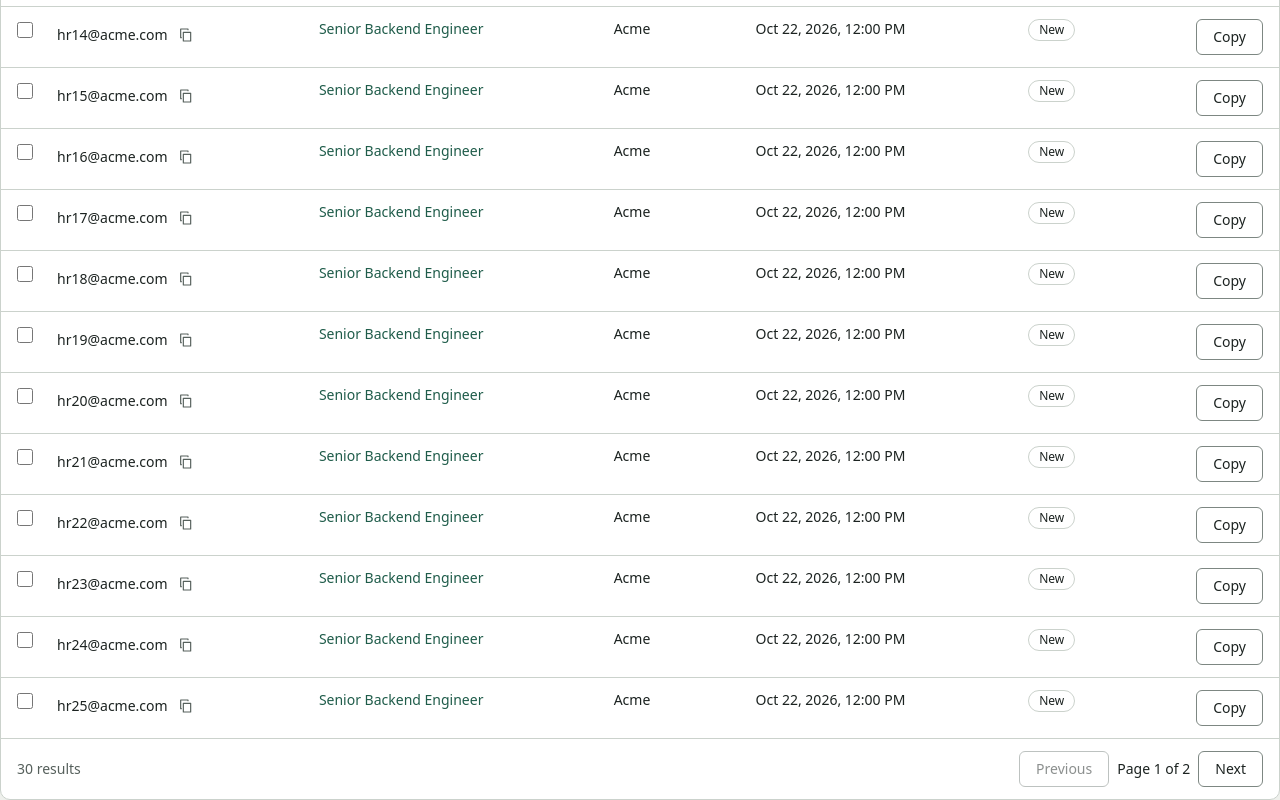
it: pagination moves pages
(page scrolled)
Expected: the text "Page 1 of 2" is shown, [1117,759,1190,779]
Expected: the button with aria-label "Previous page" is disabled, [1019,751,1109,787]
Click the button with aria-label "Next page" at (1231, 769), box [1198,751,1263,787]
(page scrolled)
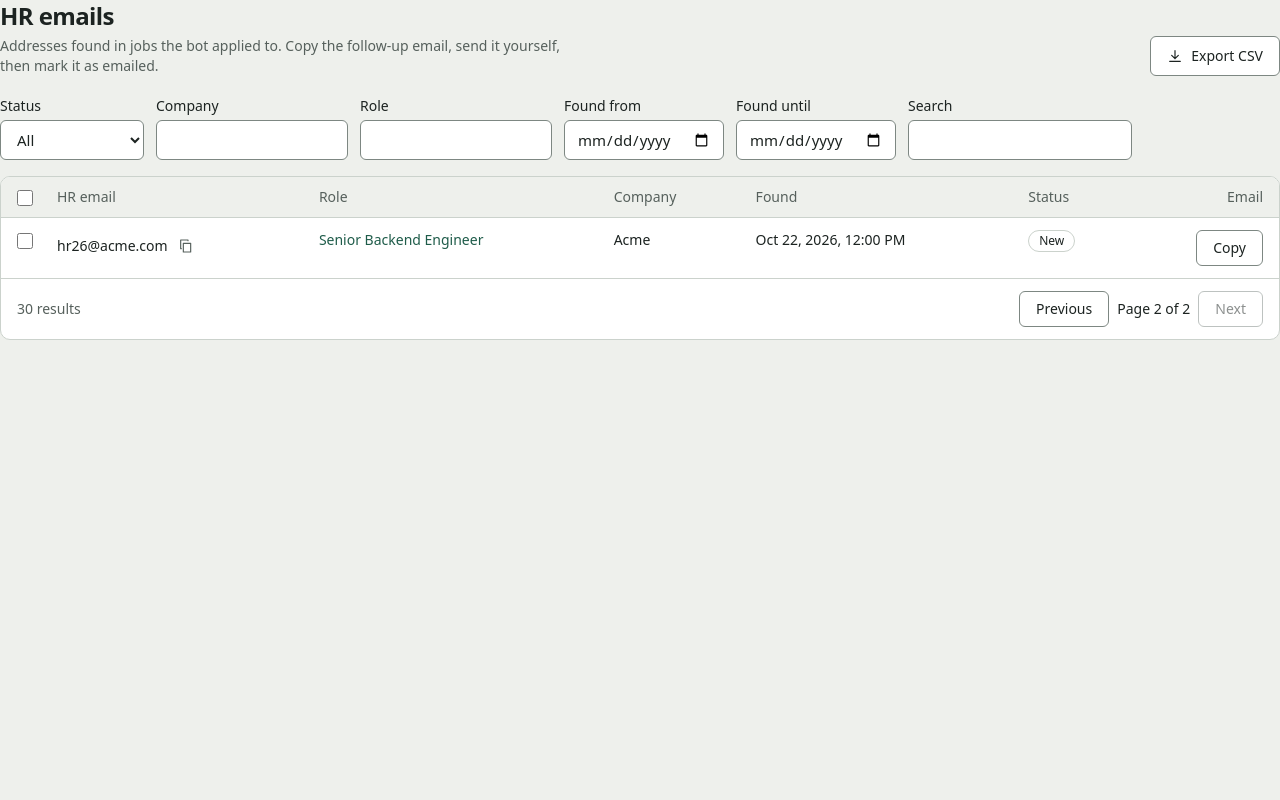
Expected: the text "hr26@acme.com" is shown, [57,236,168,256]
Expected: the text "Page 2 of 2" is shown, [1117,299,1190,319]
